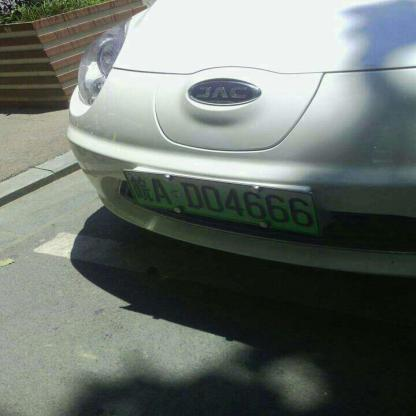lp: (123, 173, 321, 232)
